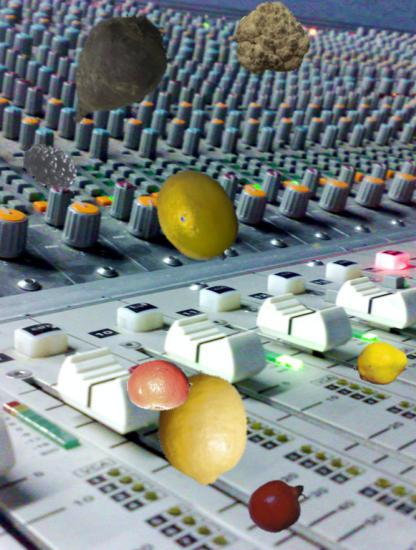Beetroot: (43, 5, 179, 141)
Cauliflower: (233, 5, 310, 82)
Clementine: (127, 352, 193, 418)
Lemon: (146, 371, 260, 485)
Maracuja: (150, 167, 248, 265)
Mulberry: (22, 131, 88, 197)
Pomegranate: (247, 473, 311, 537)
Quince: (354, 336, 409, 391)
